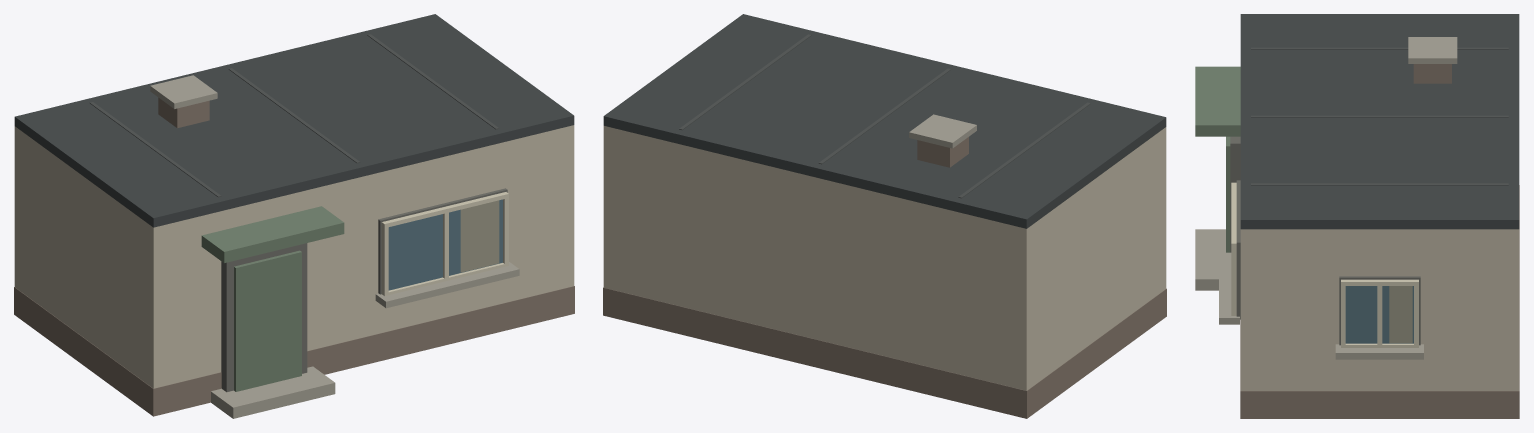
File: repair.glb
3 renders of one model, left to right at view 1: azimuth 30°, elevation 25°; view 2: azimuth 150°, elevation 25°; view 3: azimuth 270°, elevation 25°, orthographic.
Visible parts, largest first — view 1: repair; view 2: repair; view 3: repair.
Boxes of the visible parts, x1=… form: repair: x1=14, y1=14, x2=574, y2=418; repair: x1=603, y1=14, x2=1166, y2=418; repair: x1=1195, y1=14, x2=1519, y2=418.
Bounding box in the file's own units: 7.32 × 3.69 × 4.66.
